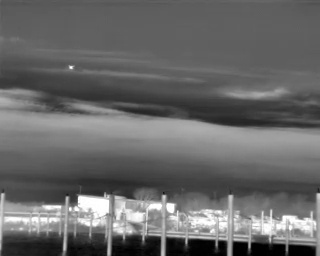BIRD: (66, 62, 77, 73)
